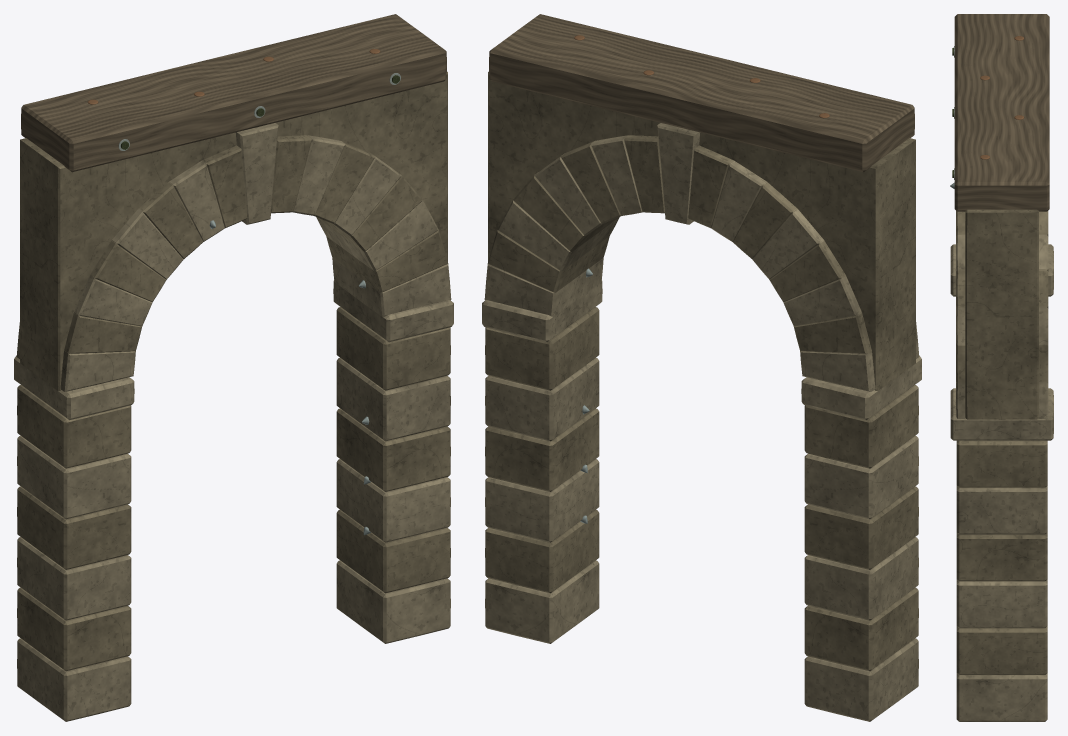
3 renders of one model, left to right at view 1: azimuth 30°, elevation 25°; view 2: azimuth 150°, elevation 25°; view 3: azimuth 270°, elevation 25°, orthographic. The views are drawn at different scales.
Visible parts, largest first — view 1: weathered-sandstone-ashlar, sandstone-edges, quarter-sawn-timber; view 2: weathered-sandstone-ashlar, sandstone-edges, quarter-sawn-timber; view 3: weathered-sandstone-ashlar, quarter-sawn-timber, sandstone-edges.
Boxes of the visible parts, x1=… form: weathered-sandstone-ashlar: x1=17, y1=71, x2=450, y2=671; sandstone-edges: x1=14, y1=123, x2=453, y2=721; quarter-sawn-timber: x1=21, y1=14, x2=446, y2=172; weathered-sandstone-ashlar: x1=485, y1=71, x2=918, y2=671; sandstone-edges: x1=482, y1=123, x2=921, y2=721; quarter-sawn-timber: x1=489, y1=14, x2=914, y2=172; weathered-sandstone-ashlar: x1=956, y1=209, x2=1048, y2=674; quarter-sawn-timber: x1=954, y1=14, x2=1049, y2=211; sandstone-edges: x1=950, y1=234, x2=1053, y2=721.
Size of the model in its own units: 2.02 by 2.87 by 0.5021.
7 materials, 5 textured.
